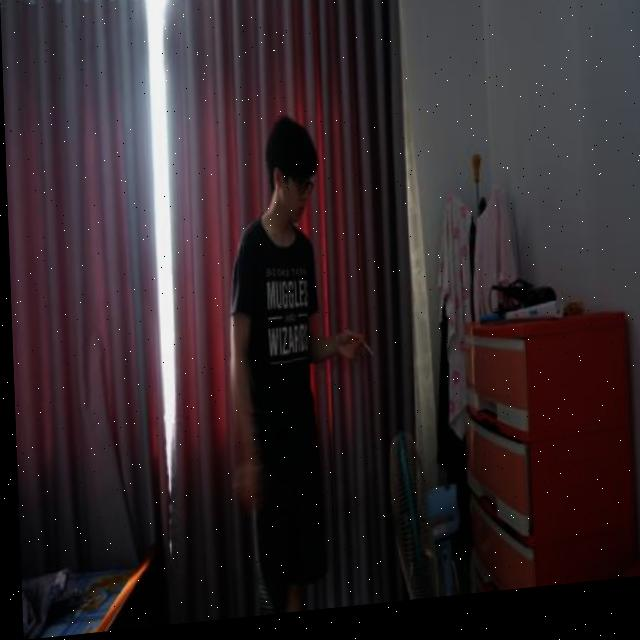cigarette: (356, 343, 370, 365)
